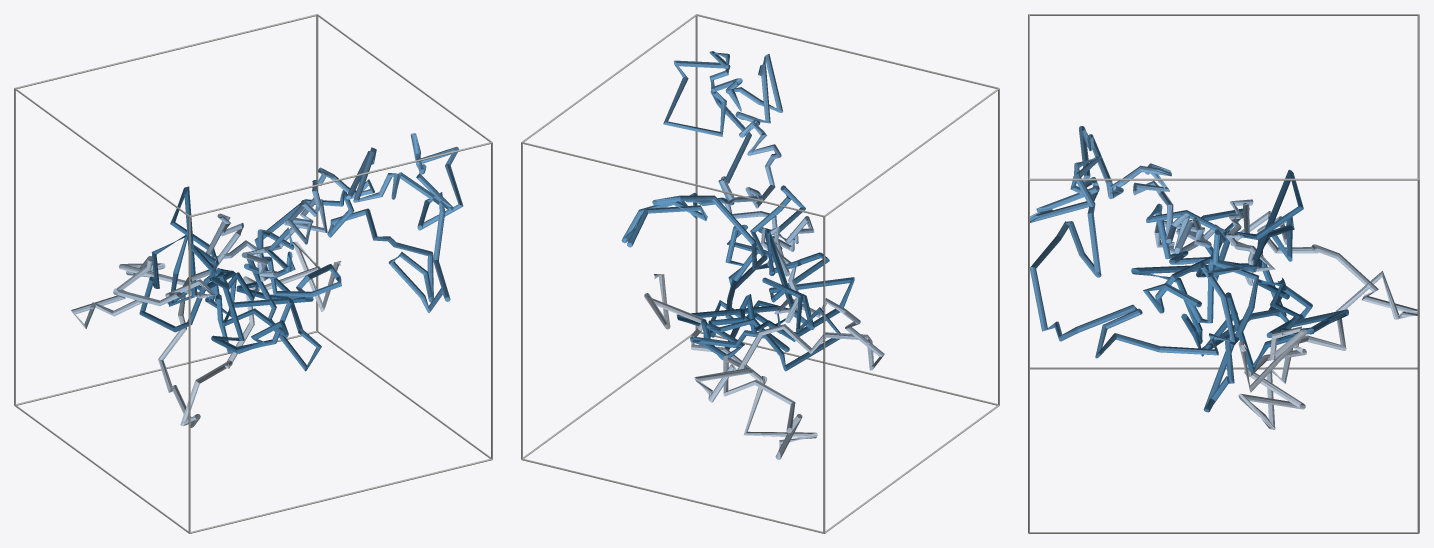
The picture shows the model from 3 angles, left to right: view 1: azimuth 30°, elevation 25°; view 2: azimuth 150°, elevation 25°; view 3: azimuth 270°, elevation 25°; orthographic projection. The views are drawn at different scales.
Parts seen in each view (by area): view 1: geometry_0, geometry_1; view 2: geometry_0, geometry_1; view 3: geometry_0, geometry_1.
Part boxes in pixels (box(x1,y1,x2,y2)): geometry_0: box(71, 133, 463, 427); geometry_1: box(14, 14, 492, 533); geometry_0: box(621, 51, 884, 459); geometry_1: box(521, 14, 999, 533); geometry_0: box(1030, 126, 1417, 429); geometry_1: box(1028, 14, 1419, 533).
Size of the model in its own units: 0.3036 by 0.3026 by 0.3017.
